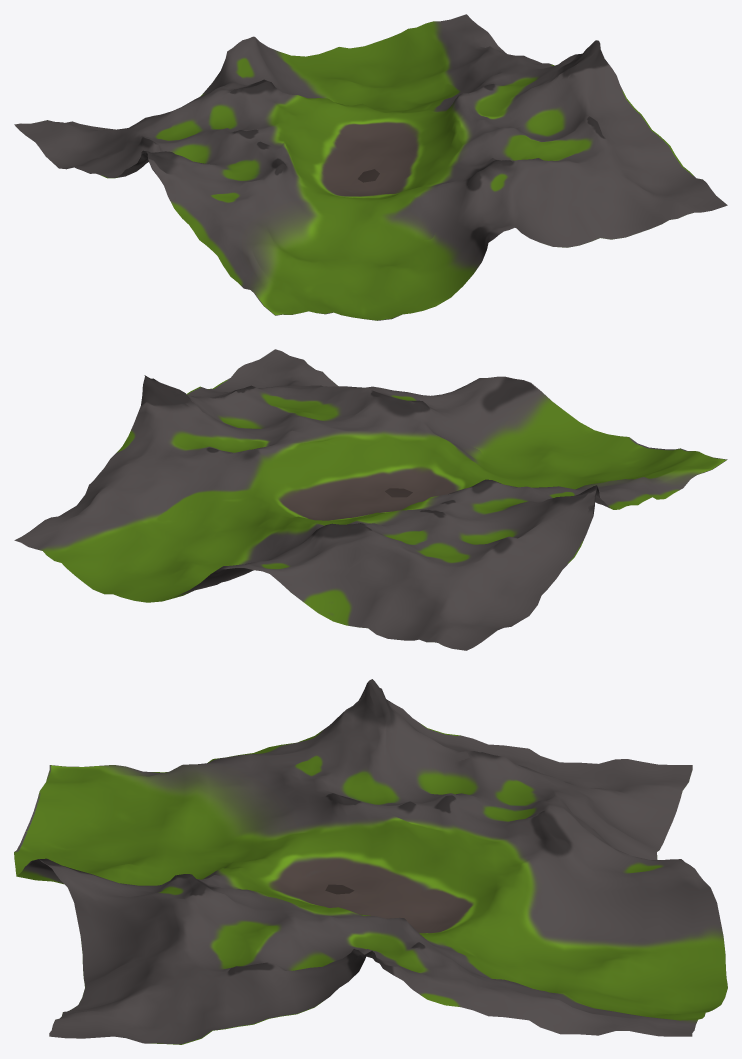
File: height_map.glb
3 views of the same model, one above another, from view 1: azimuth 30°, elevation 25°; view 2: azimuth 150°, elevation 25°; view 3: azimuth 270°, elevation 25° (orthographic). The views are drawn at different scales.
Parts seen in each view (by area): view 1: Plane; view 2: Plane; view 3: Plane.
Boxes of the visible parts, x1,y1,x2,y2 form: Plane: [14, 14, 727, 320]; Plane: [14, 349, 727, 650]; Plane: [14, 679, 727, 1044].
Size of what is drawn, in the model's own units: 521 by 104 by 555.
Materials: 2 (2 with a texture image).
